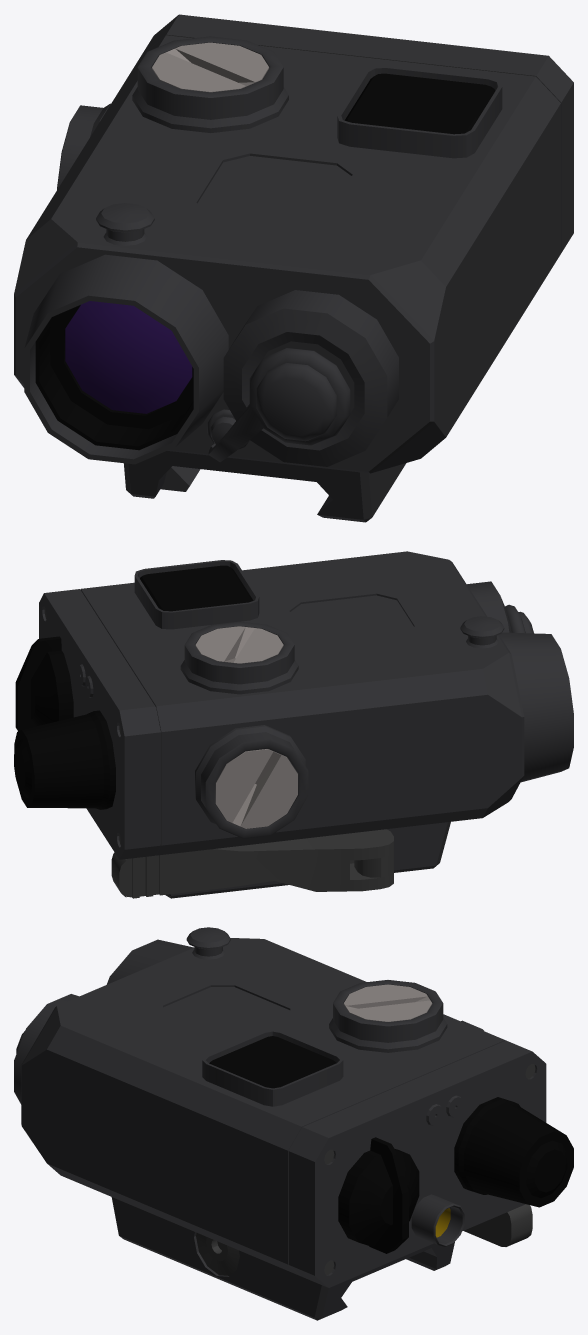
3 renders of one model, top to bottom at view 1: azimuth 30°, elevation 25°; view 2: azimuth 150°, elevation 25°; view 3: azimuth 270°, elevation 25°, orthographic. The views are drawn at different scales.
Parts seen in each view (by area): view 1: Main Body, lens, coverhold, windage, Top Button, Mount, coverbuckle, coverhold2, elevation; view 2: Main Body, Clamp, elevation, focusing knob, lens, windage, Top Button, mode selector, Mount, coverhold, coverhold2, clamp holder; view 3: Main Body, focusing knob, Mount, Top Button, windage, mode selector, remote cable port, Clamp, lens, coverhold, Mount.001, coverhold2.
Part boxes in pixels (x1,y1,x2,y2): Main Body: (14, 14, 573, 473); lens: (24, 254, 228, 464); coverhold: (223, 290, 398, 466); windage: (132, 36, 288, 132); Top Button: (337, 66, 502, 158); Mount: (124, 451, 406, 522); coverbuckle: (207, 348, 350, 462); coverhold2: (96, 203, 154, 245); elevation: (57, 103, 110, 189); Main Body: (39, 551, 524, 859); Clamp: (111, 829, 393, 898); elevation: (195, 725, 308, 838); focusing knob: (14, 710, 115, 809); lens: (499, 632, 573, 782); windage: (180, 621, 298, 694); Top Button: (134, 560, 259, 629); mode selector: (15, 636, 73, 731); Mount: (165, 822, 450, 898); coverhold: (467, 581, 533, 633); coverhold2: (460, 616, 504, 648); clamp holder: (354, 853, 393, 877); Main Body: (21, 938, 546, 1287); focusing knob: (454, 1097, 573, 1207); Mount: (111, 1197, 454, 1320); Top Button: (202, 1030, 343, 1106); windage: (329, 980, 447, 1052); mode selector: (338, 1137, 419, 1253); remote cable port: (411, 1194, 464, 1246); Clamp: (464, 1204, 532, 1246); lens: (107, 939, 193, 984); coverhold: (14, 994, 78, 1104); Mount.001: (196, 1233, 239, 1275); coverhold2: (186, 927, 230, 959).
Size of the model in its own units: 0.0883 by 0.0433 by 0.0899.
